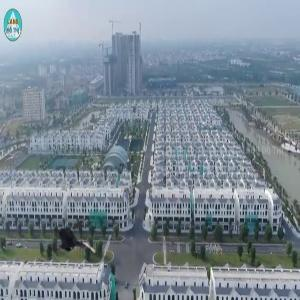drone: (41, 213, 107, 279)
